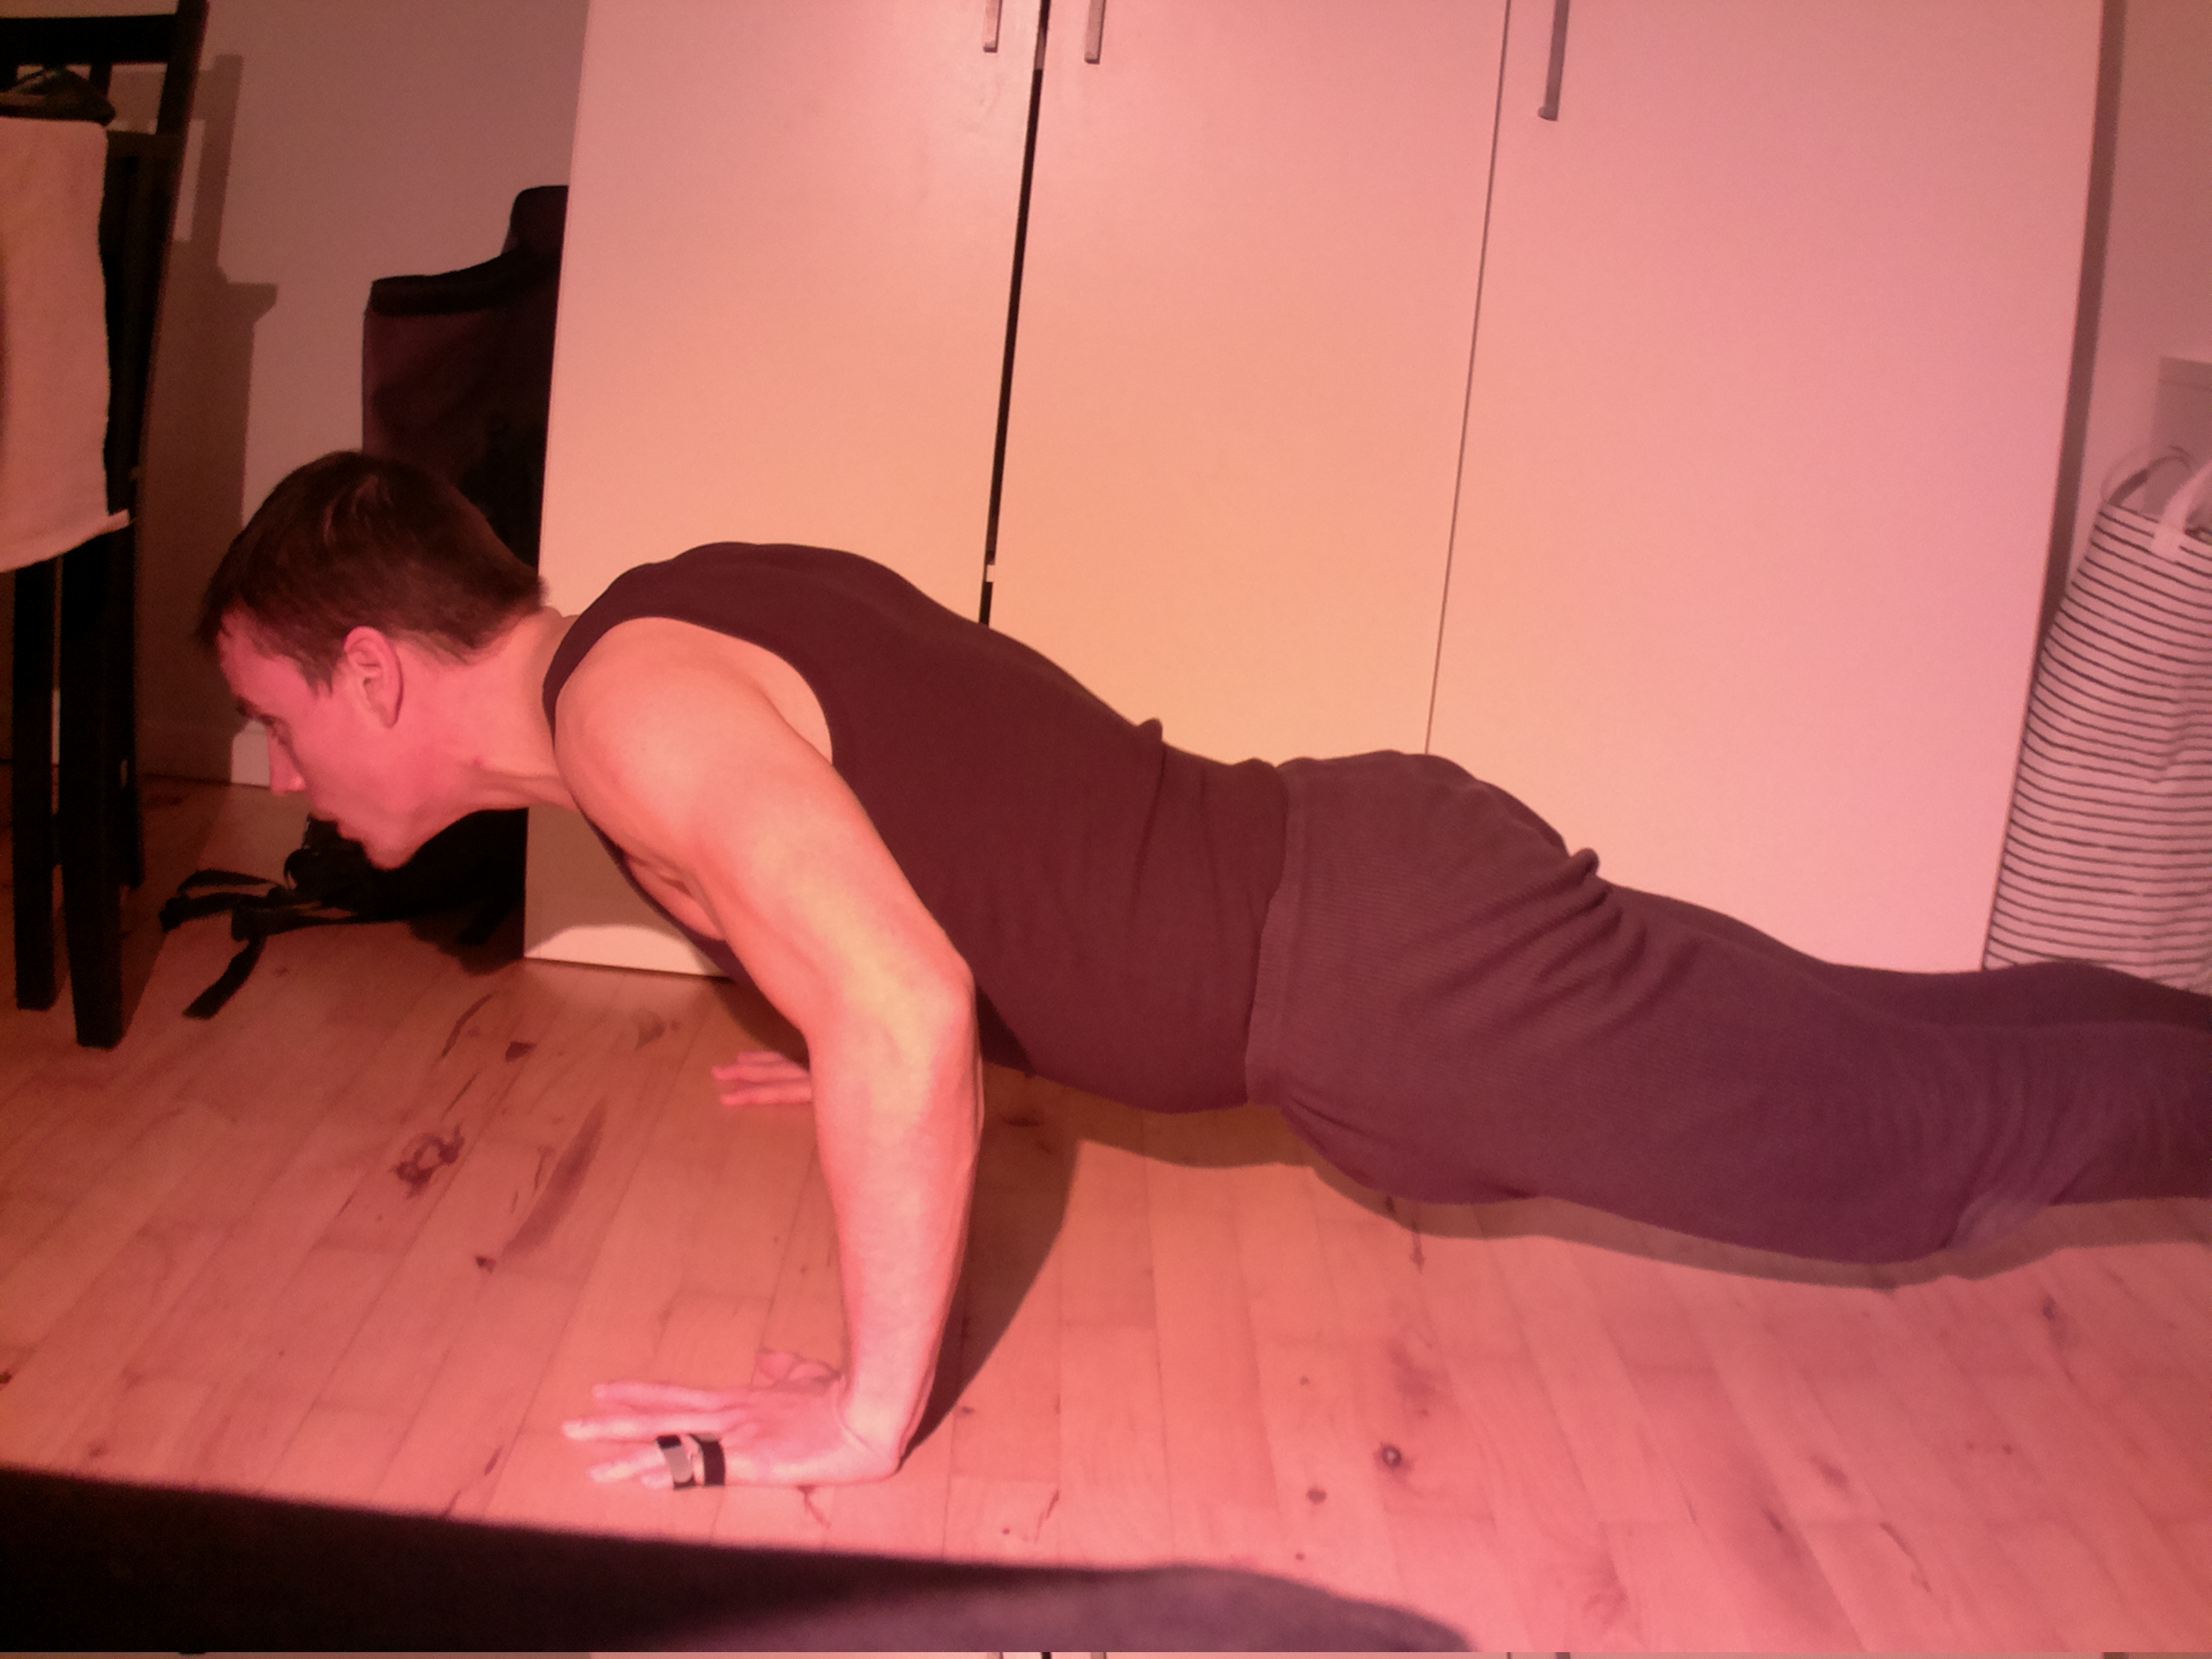CONAN: (178, 415, 1527, 1520)
